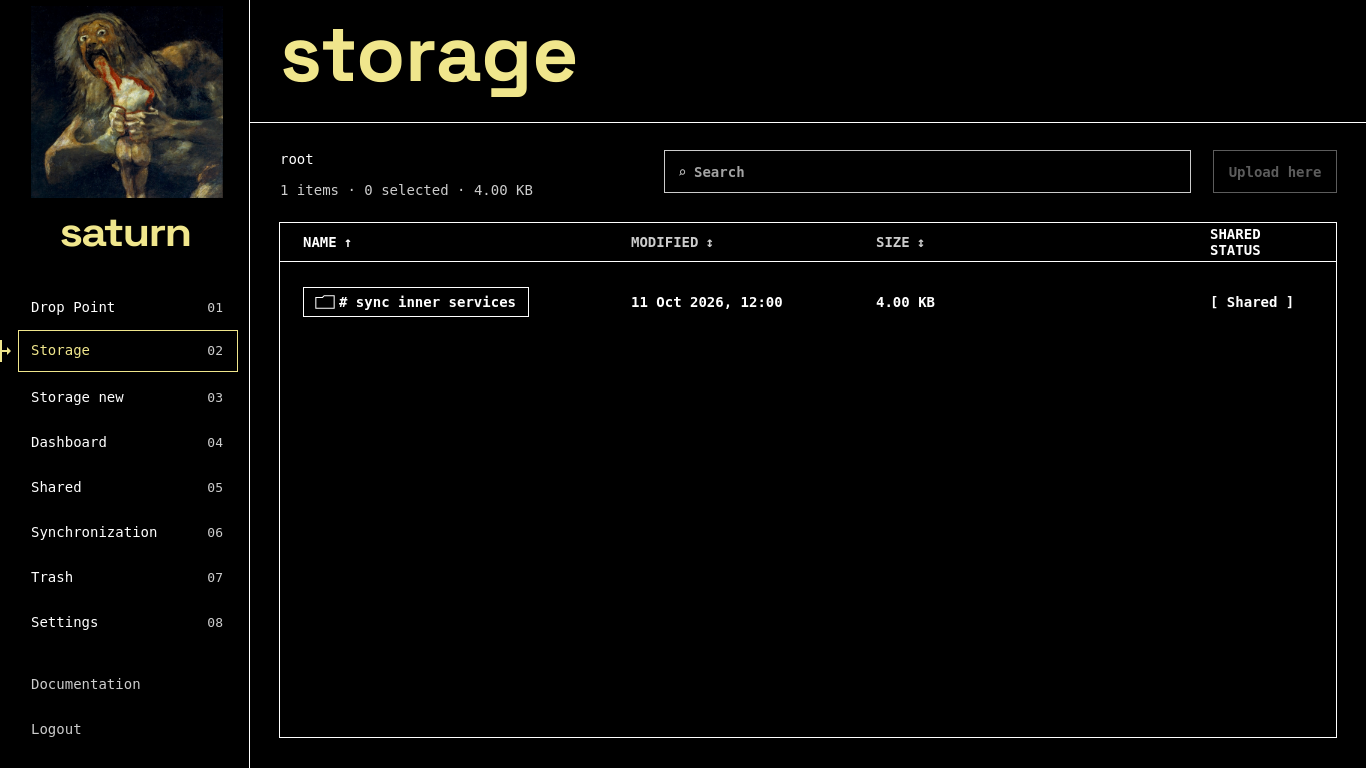
Test: Storage new › keeps the original Storage share details and controls
Click the button "[ Shared ]" at (1252, 302), box [1210,287,1294,317]
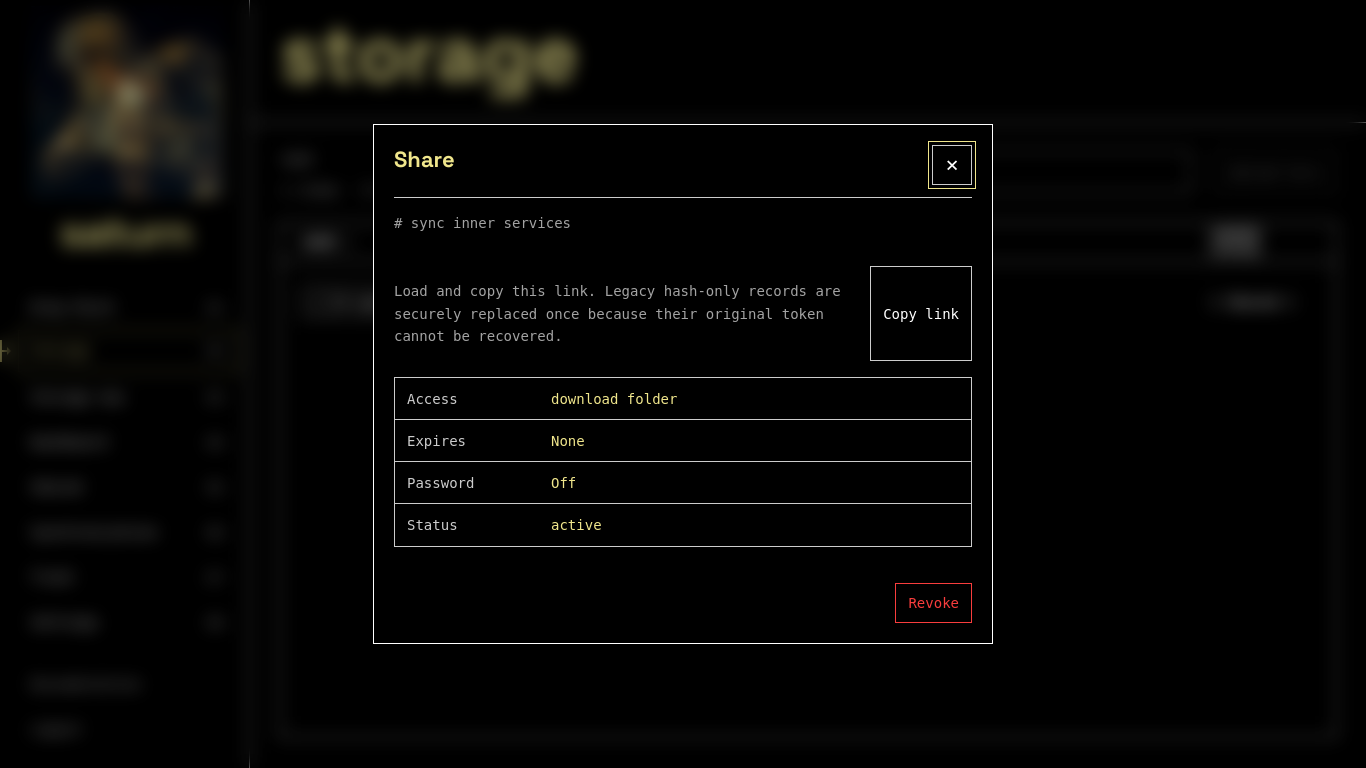
Check: the element with class "share-details" is shown, box [394,248,972,623]
Check: the text "download folder" is shown, box [551,391,677,407]
Check: the button "Copy link" is shown, box [870,266,972,361]
